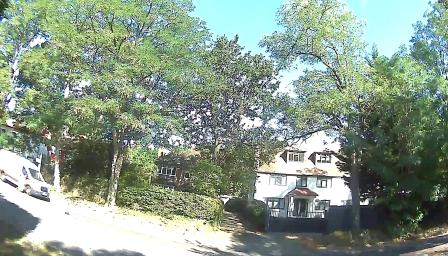Cars: (2, 151, 51, 204)
